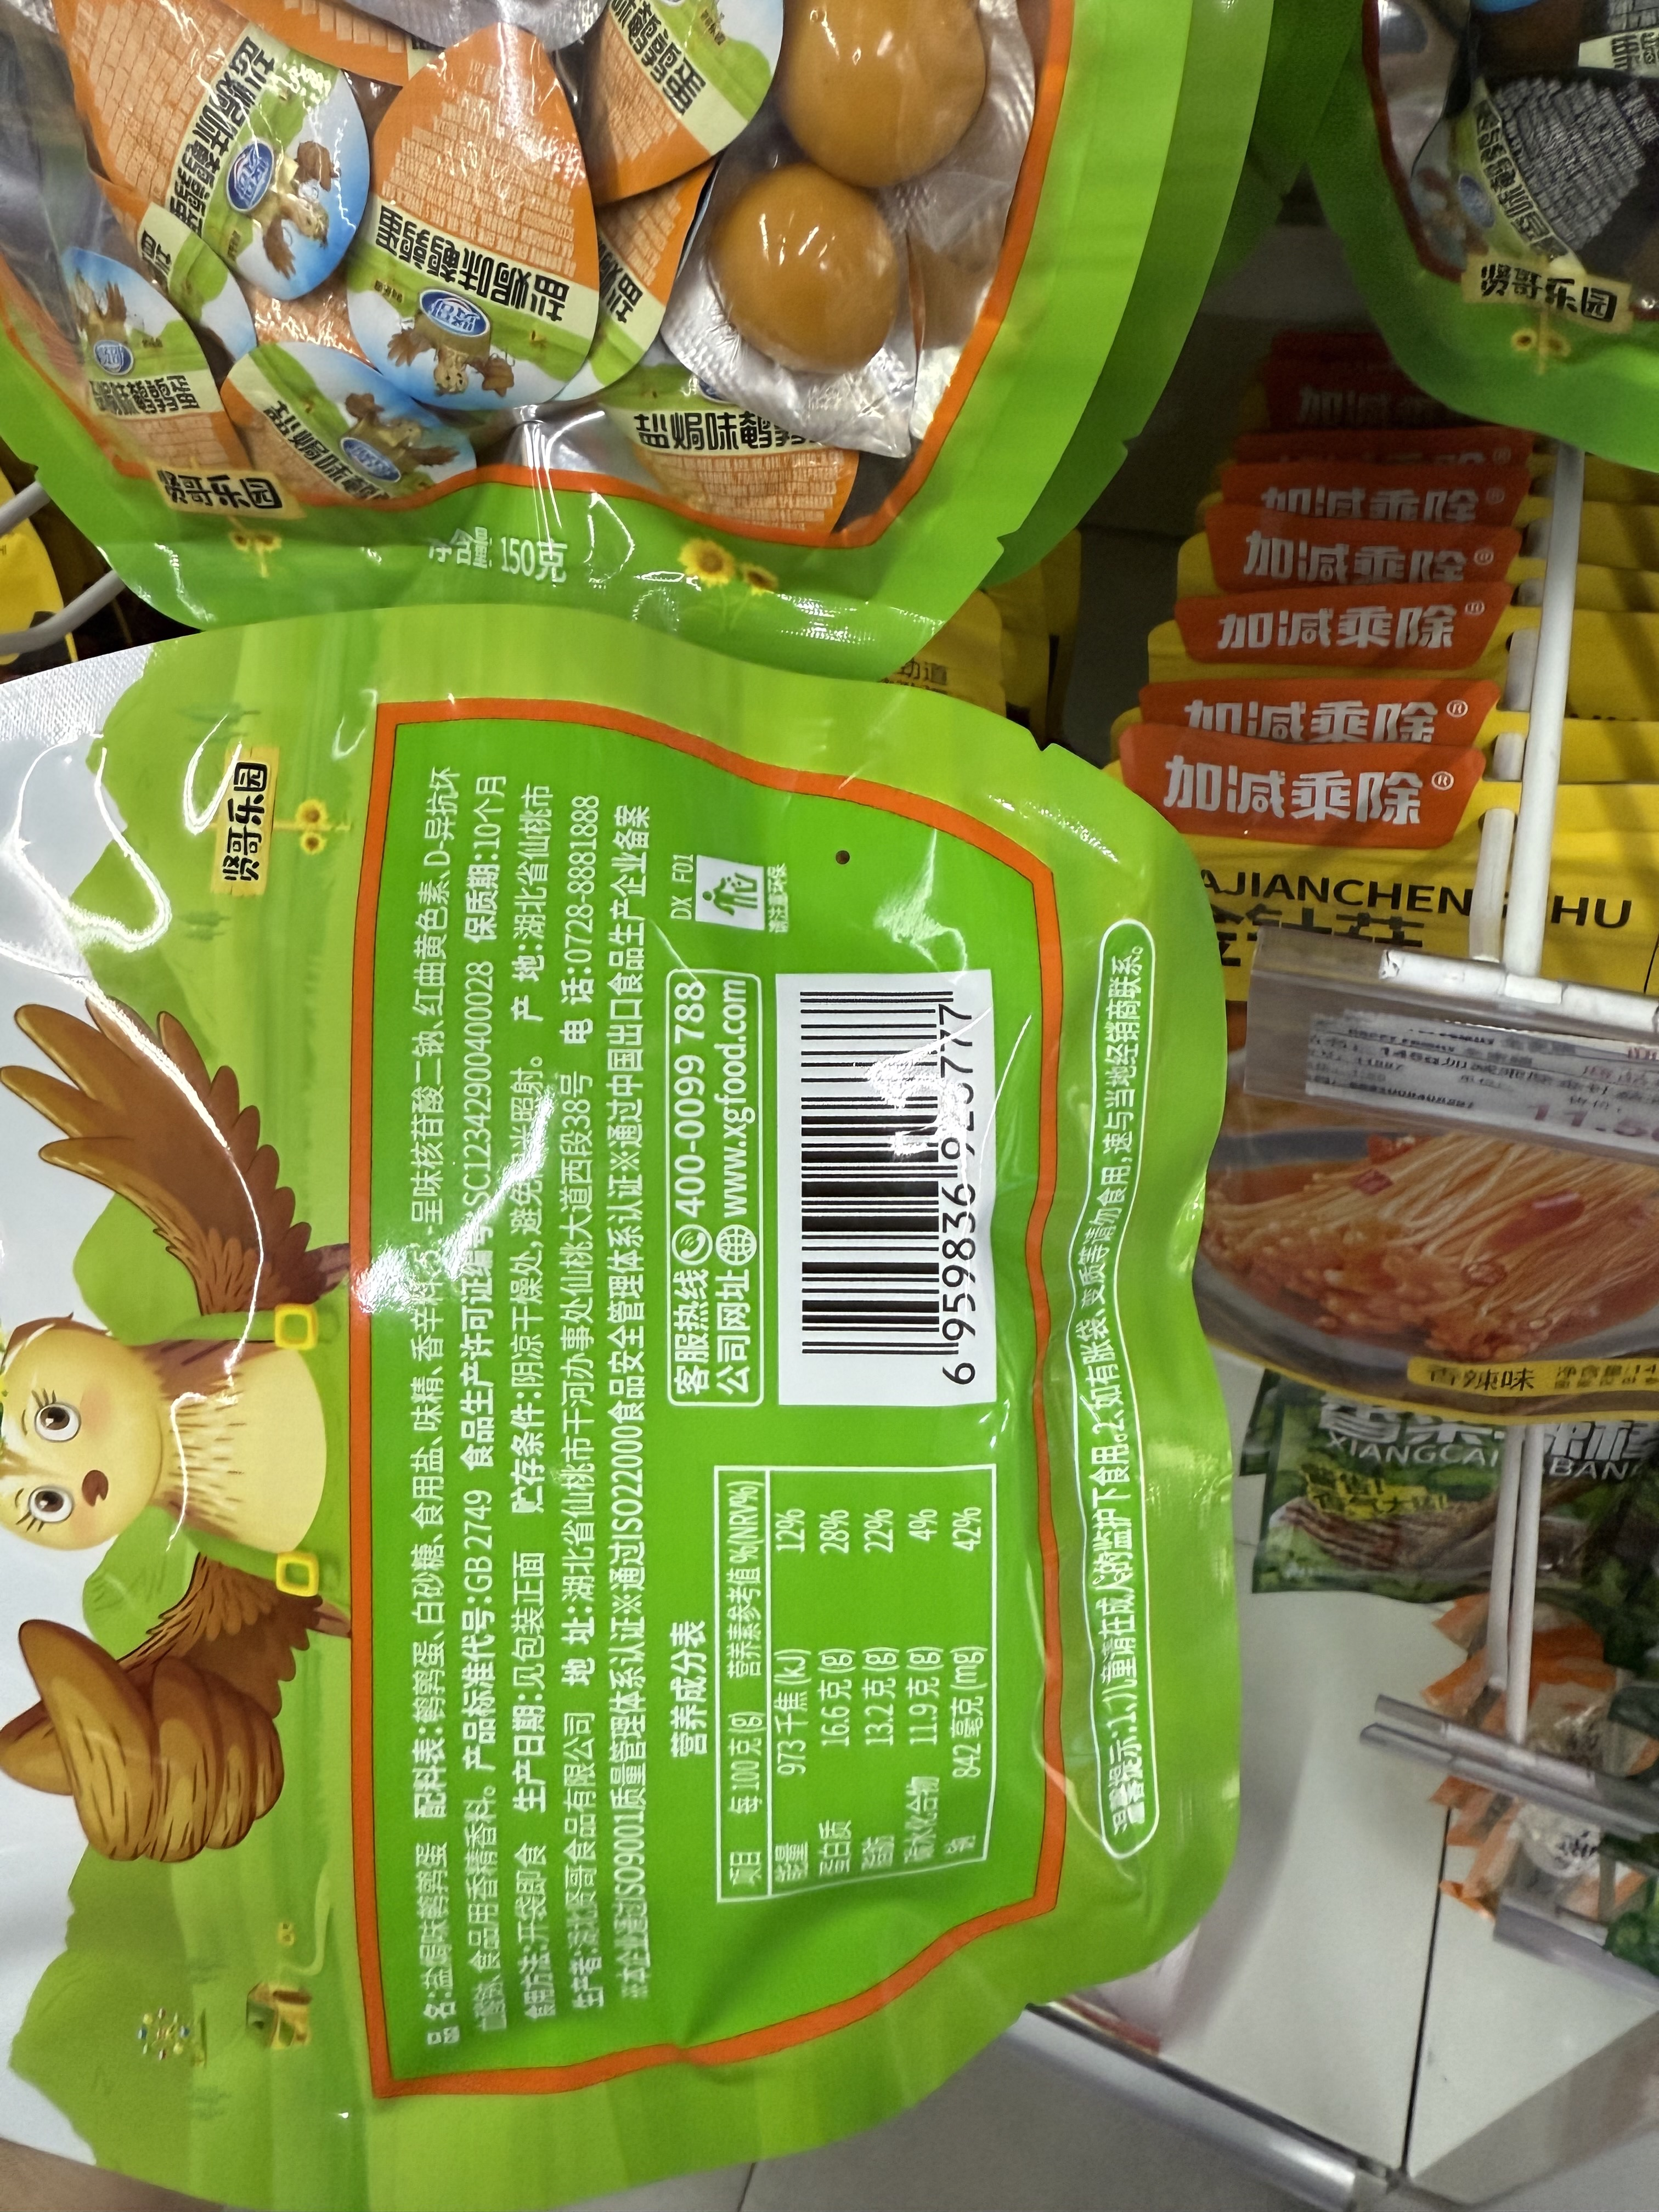bar: (788, 979, 971, 1369)
